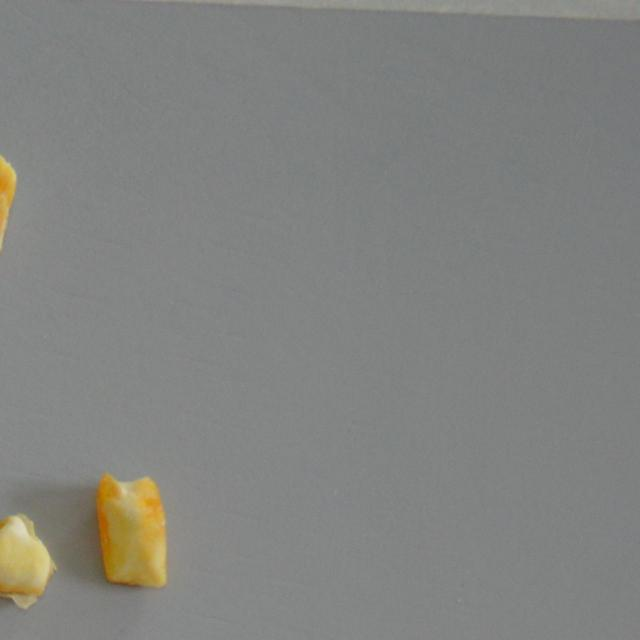estandar: (94, 469, 170, 592)
pelicula: (0, 502, 55, 611), (0, 151, 18, 264)
